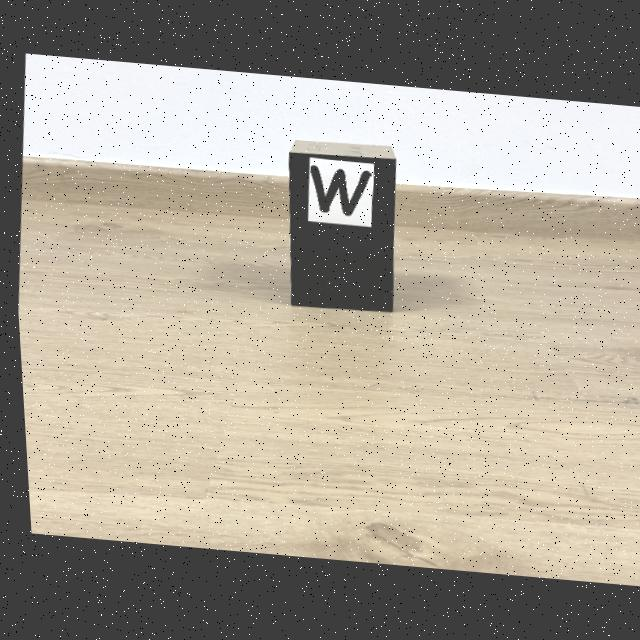W: (308, 164, 368, 216)
